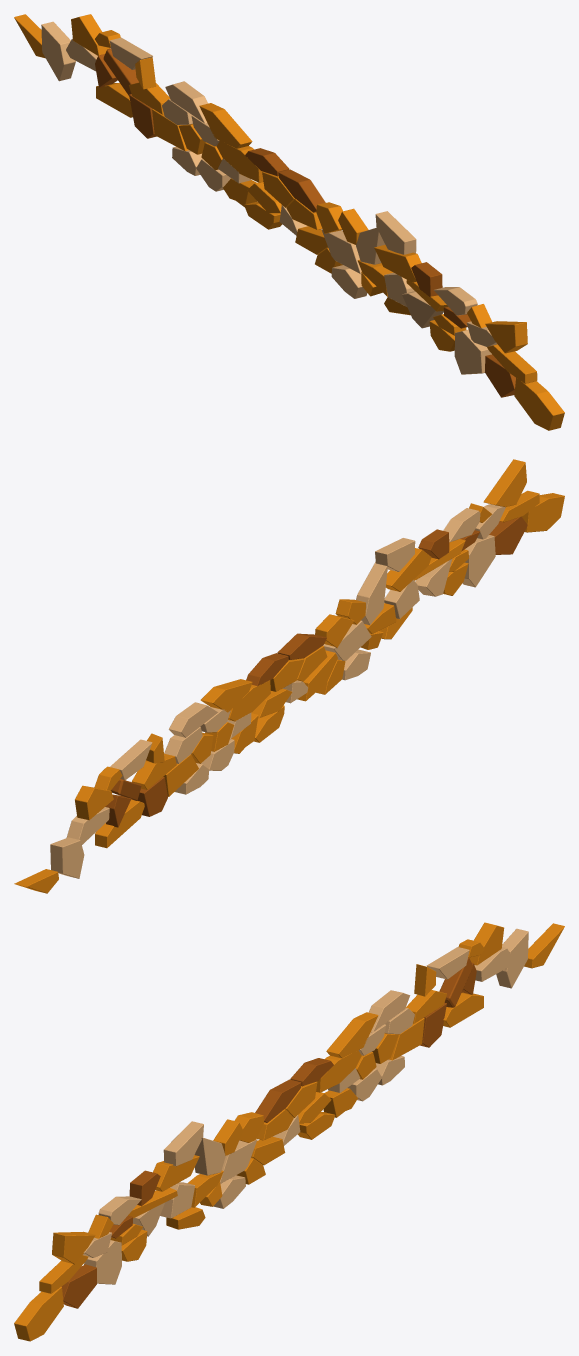
The model's file is Muro1.fbx.
The picture shows the model from 3 angles, top to bottom: view 1: azimuth 30°, elevation 25°; view 2: azimuth 150°, elevation 25°; view 3: azimuth 330°, elevation 25°; orthographic projection.
Parts seen in each view (by area): view 1: Piedrote.167; view 2: Piedrote.167; view 3: Piedrote.167.
Part boxes in pixels (x1,y1,x2,y2): Piedrote.167: (14, 14, 564, 430); Piedrote.167: (14, 459, 564, 893); Piedrote.167: (14, 922, 564, 1341).
Size of the model in its own units: 90.56 by 344 by 3363.
